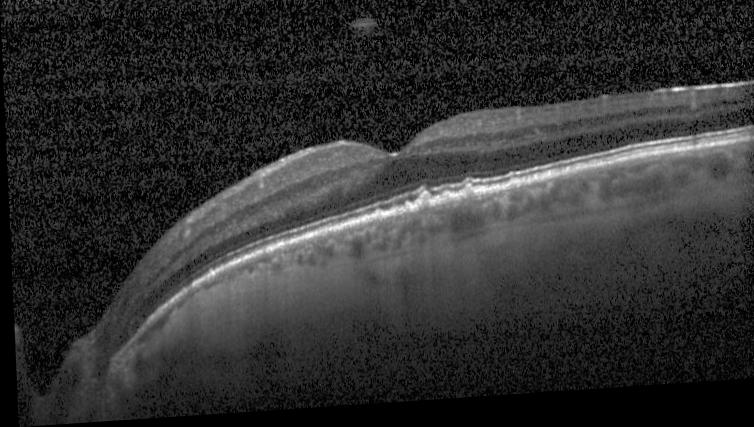retinal_drusen: (416, 199, 428, 215), (437, 199, 450, 211), (462, 193, 472, 207), (506, 184, 516, 196), (401, 210, 410, 219), (373, 215, 381, 225), (391, 215, 397, 222)
